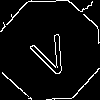V: (25, 25, 75, 80)
